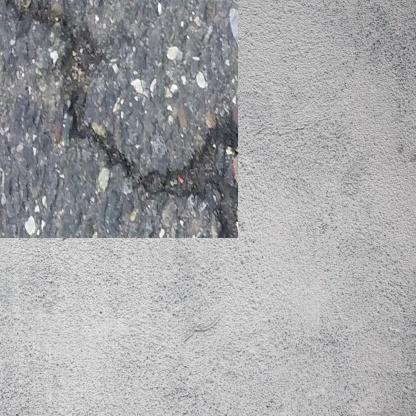Cracks: (0, 0, 220, 220)
